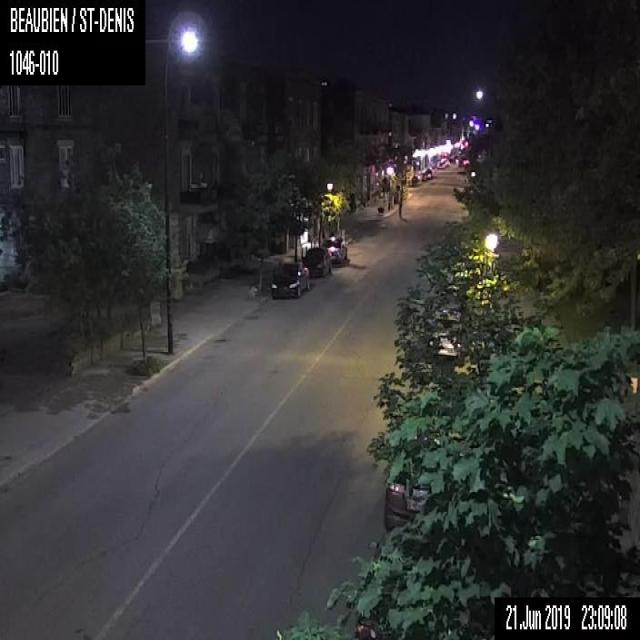vehicle: (385, 391, 473, 532), (356, 530, 453, 638), (426, 296, 470, 364), (269, 261, 309, 298), (303, 246, 331, 276), (321, 235, 347, 267)
